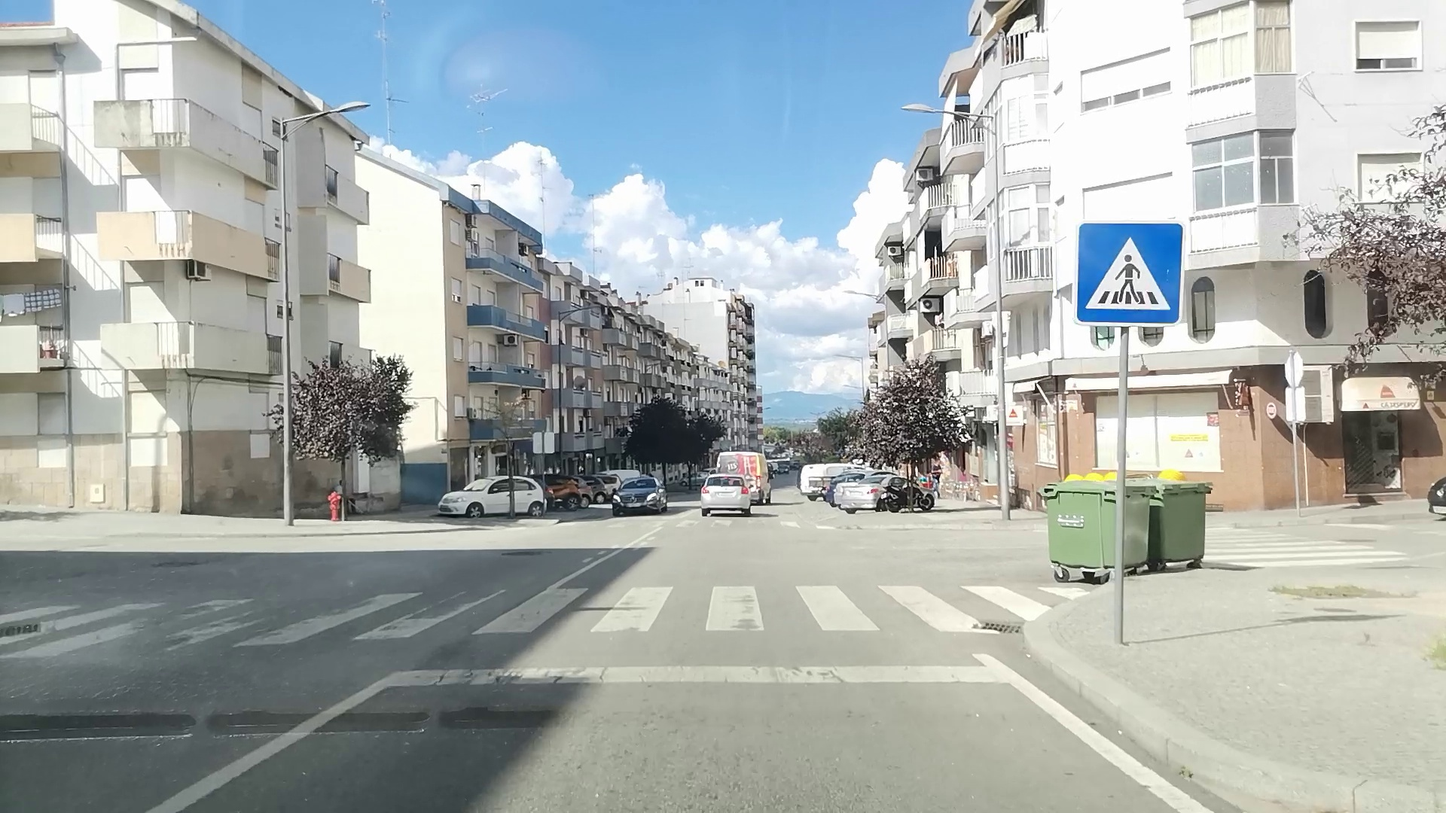Stairs: (0, 583, 1090, 655)
